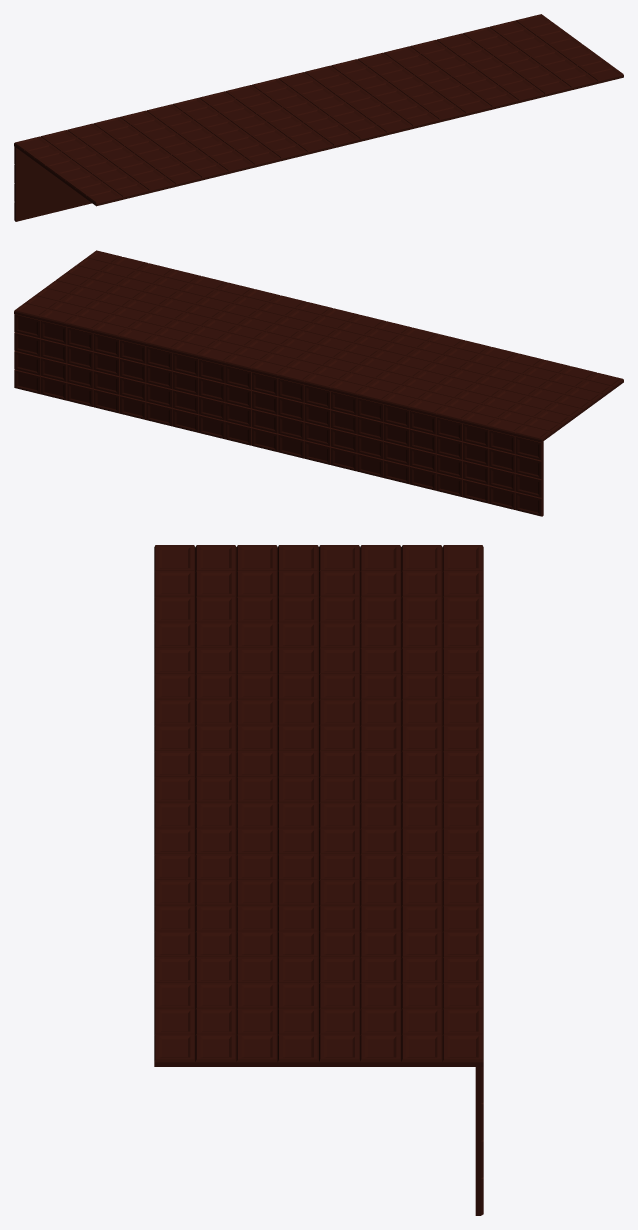
File: choco_respawn.fbx
The picture shows the model from 3 angles, top to bottom: view 1: azimuth 30°, elevation 25°; view 2: azimuth 150°, elevation 25°; view 3: azimuth 270°, elevation 25°; orthographic projection. The views are drawn at different scales.
Parts seen in each view (by area): view 1: 平面.006, 平面.005; view 2: 平面.006, 平面.005; view 3: 平面.006, 平面.005.
Part boxes in pixels (x1,y1,x2,y2): 平面.006: (14, 14, 623, 206); 平面.005: (14, 146, 91, 221); 平面.006: (14, 250, 623, 442); 平面.005: (14, 314, 543, 516); 平面.006: (154, 545, 483, 1066); 平面.005: (475, 1066, 483, 1215).
Bounding box in the file's own units: 172 × 24.35 × 46.57.
